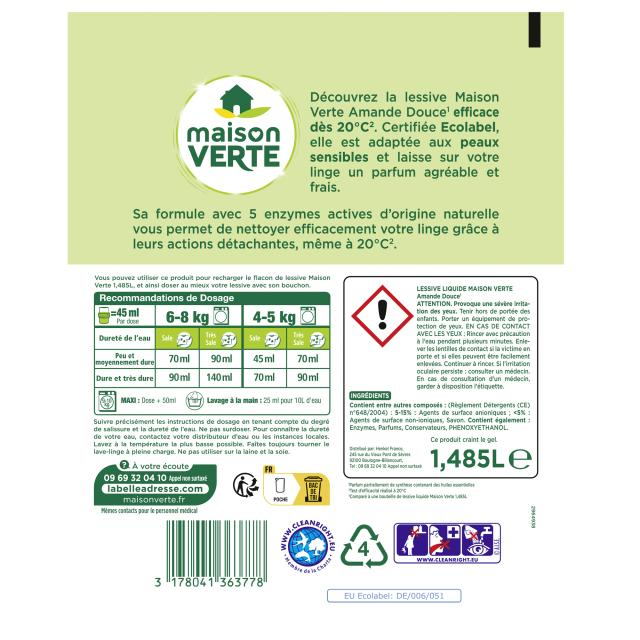GHS_Symbol_EXCLAMATION_MARK: (353, 286, 413, 348)
